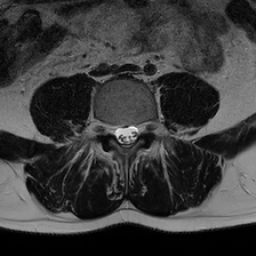CCS_normal: (121, 115, 129, 155)
LFS_normal: (138, 113, 147, 141)
LLS_normal: (129, 114, 138, 150)
RFS_normal: (105, 114, 113, 141)
RLS_normal: (113, 115, 121, 150)
